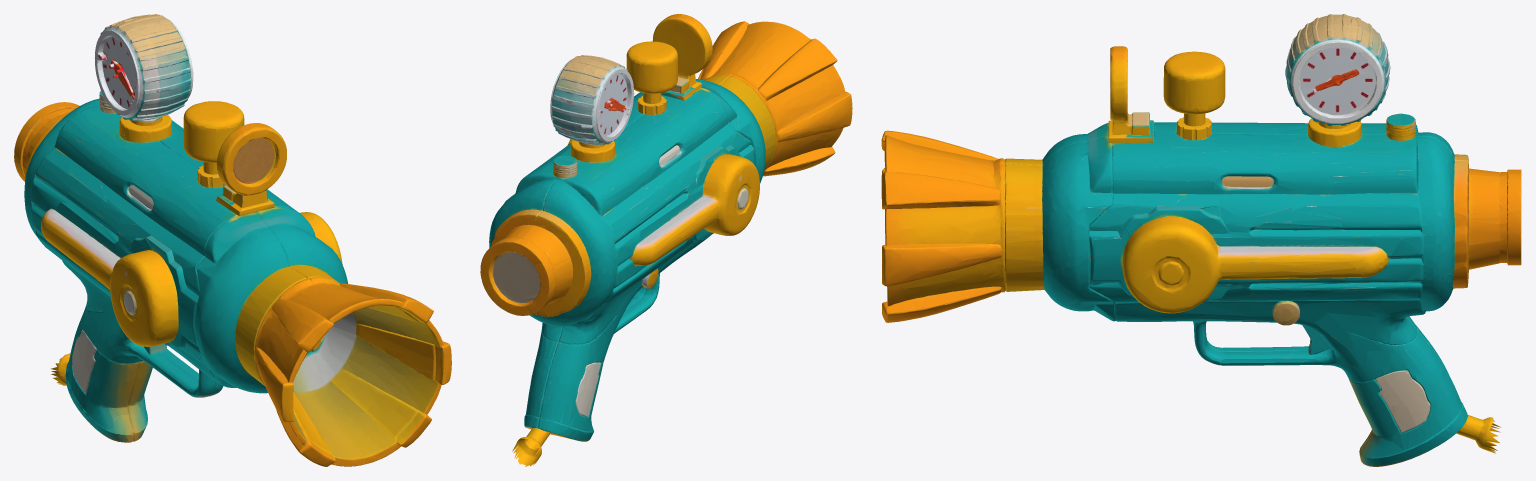
Rendered from lancia_B.glb.
3 views of the same model, side by side, from view 1: azimuth 30°, elevation 25°; view 2: azimuth 150°, elevation 25°; view 3: azimuth 270°, elevation 25° (orthographic). The views are drawn at different scales.
Parts seen in each view (by area): view 1: lancia; view 2: lancia; view 3: lancia.
Boxes of the visible parts, x1,y1,x2,y2 form: lancia: (14,14,451,466); lancia: (480,14,852,466); lancia: (881,14,1521,466).
Size of the model in its own units: 0.2804 by 0.5888 by 0.78.
1 material, 1 textured.
